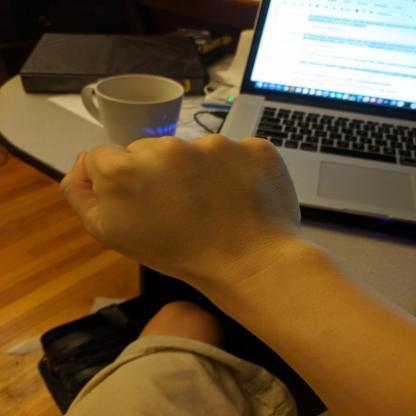A: (59, 132, 324, 300)
